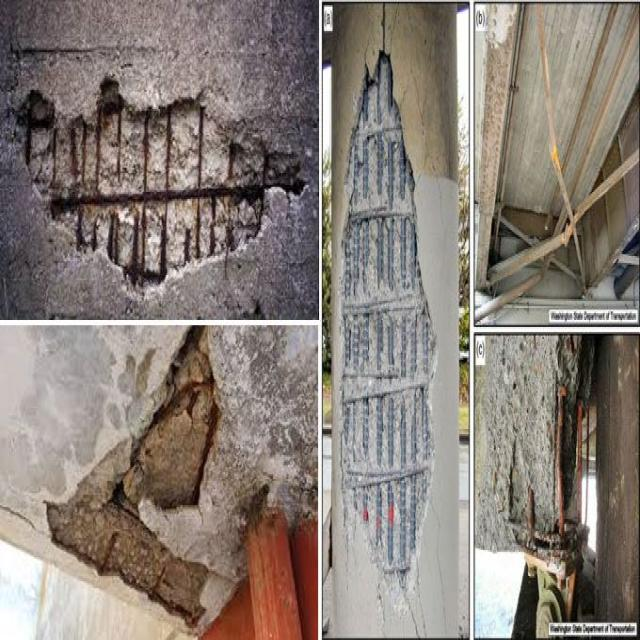Spalling: (10, 64, 312, 303), (338, 42, 444, 606), (47, 326, 234, 633), (546, 333, 584, 522), (501, 450, 545, 546)
